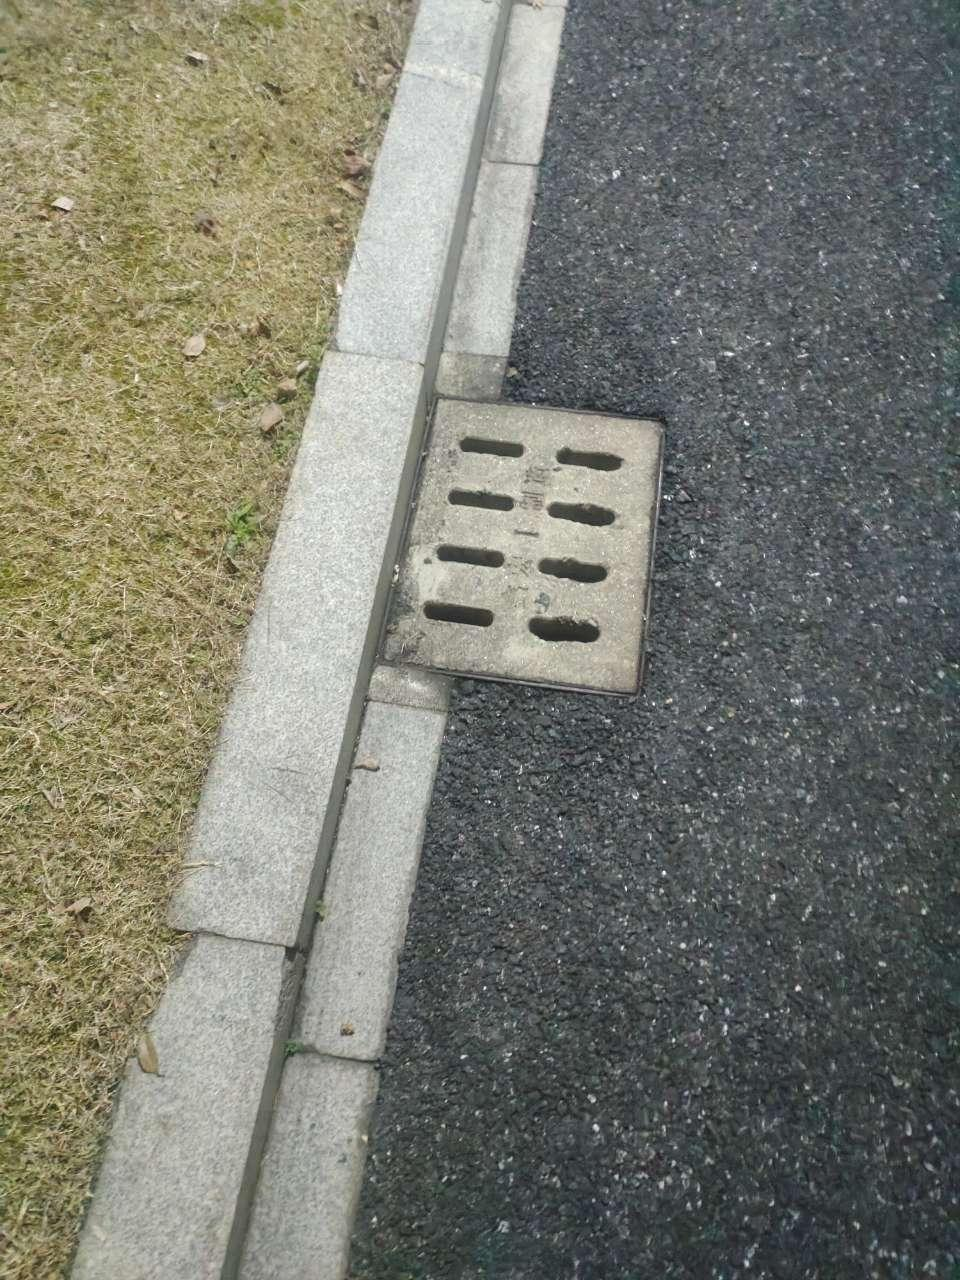wellcover: (371, 371, 667, 727)
